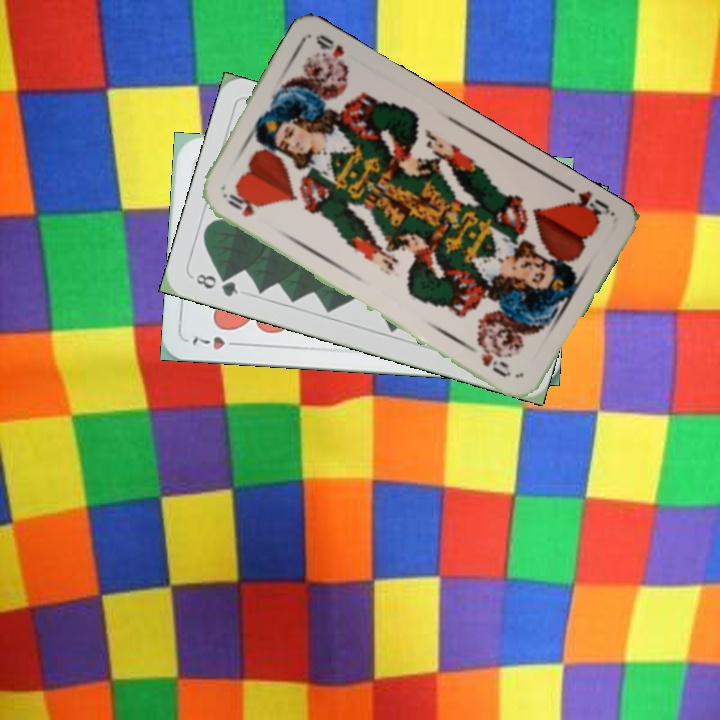G8: (191, 270, 241, 300)
H7: (189, 332, 245, 352)
HO: (563, 187, 616, 225), (218, 189, 257, 220)
